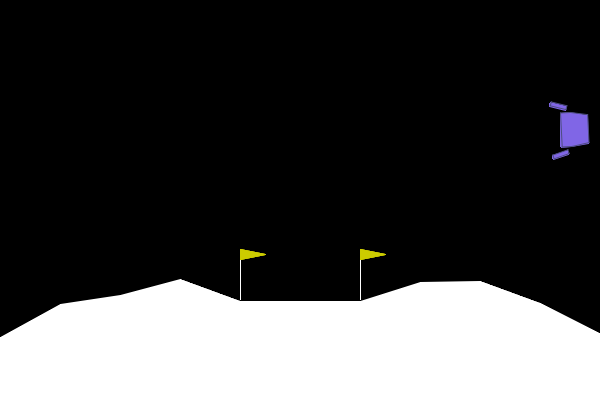lander: (549, 99, 591, 161)
